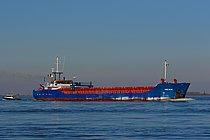Ship: (30, 56, 197, 108)
